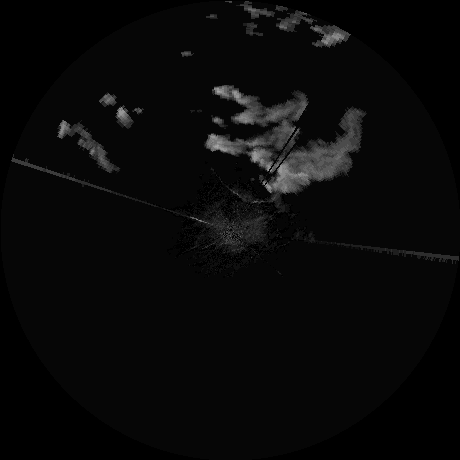frontgust: (227, 185, 278, 204)
